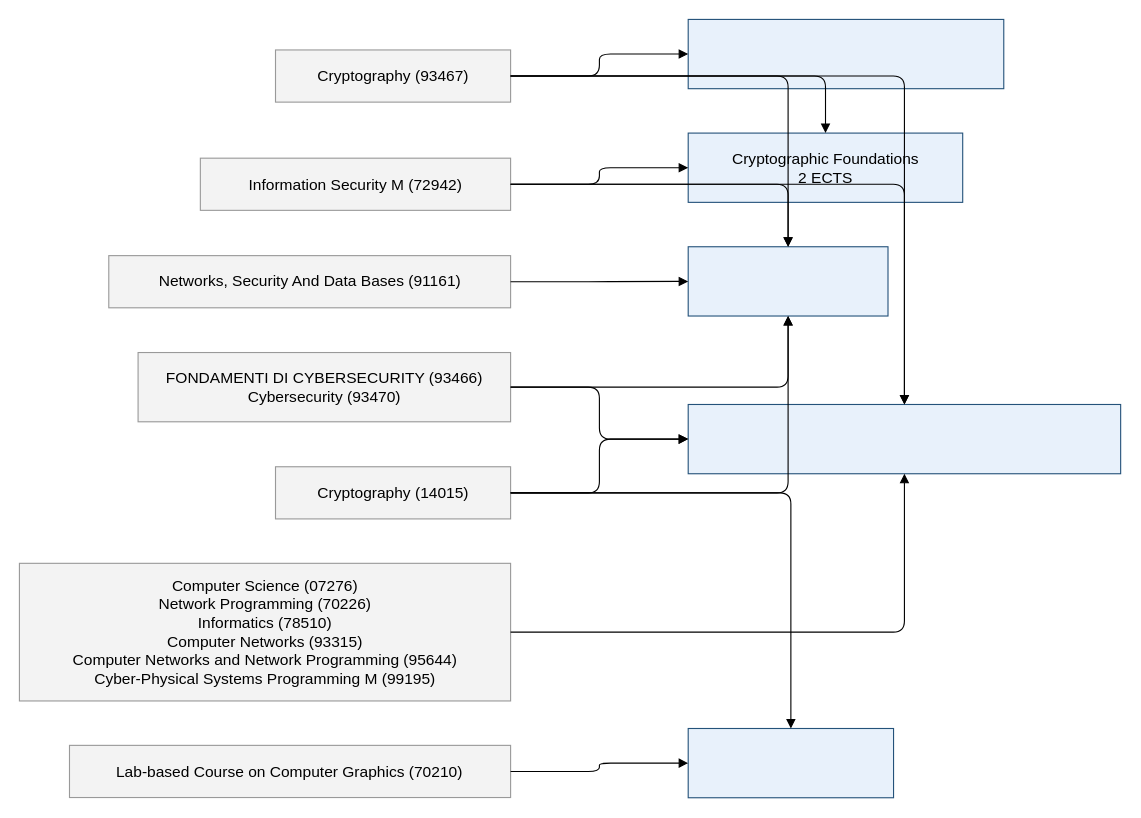
The diagram is 1141 pixels wide and 818 high, and some of its shapes have lost their labels. The shapes that lost their labels are listed below. From the top down, each one's centre as x and y in pixels, then its label:
the point at 845,53: Cryptographic Protocol Analysis 1 ECTS
the point at 787,281: Cryptography 3 ECTS
the point at 904,438: Cryptographic Protocols and Digital Signatures 2 ECTS
the point at 790,762: Data Compression 1 ECTS
